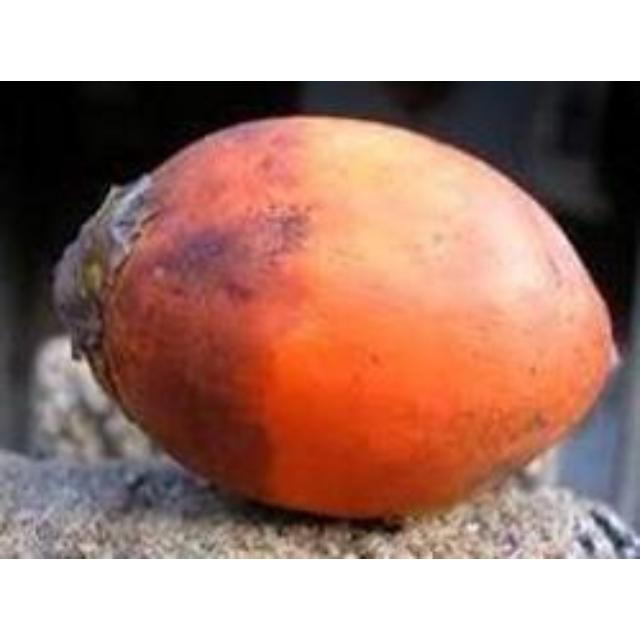good: (51, 117, 622, 529)
